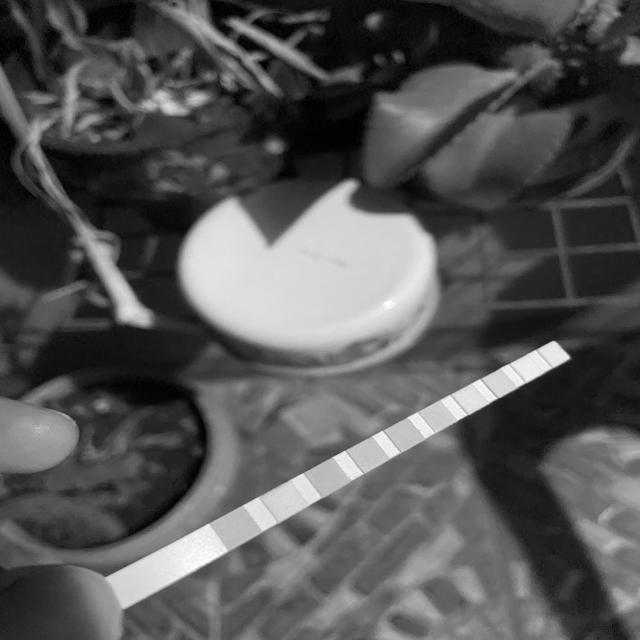Bilirubin: (269, 491, 299, 511)
Blood: (392, 426, 416, 442)
Glucose: (220, 518, 253, 538)
Ketone: (312, 468, 342, 486)
Leukocytes: (544, 346, 560, 359)
Nitrite: (516, 360, 532, 374)
Protein: (460, 390, 478, 408)
SpGravity: (354, 446, 380, 462)
Urobilinogen: (489, 374, 506, 390)
background: (0, 0, 640, 640)
pH: (424, 408, 448, 421)
strip: (115, 341, 571, 602)
